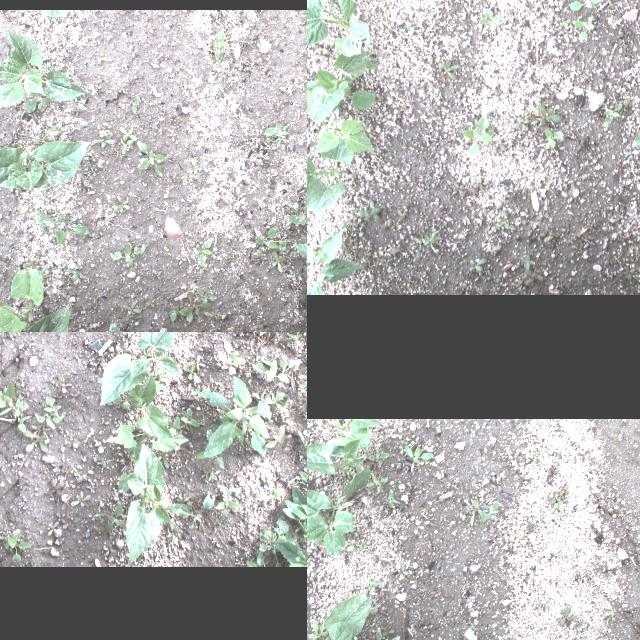crop: (0, 30, 89, 110), (115, 444, 173, 564), (196, 374, 276, 460), (99, 332, 187, 409), (307, 44, 366, 122), (0, 140, 91, 189), (101, 404, 191, 451), (307, 437, 370, 499), (307, 136, 353, 214), (307, 0, 369, 56), (307, 486, 356, 555), (307, 594, 372, 640), (0, 267, 43, 332), (246, 521, 307, 565), (316, 116, 374, 152), (277, 469, 307, 536), (323, 418, 383, 448), (310, 0, 385, 21), (15, 306, 70, 332), (33, 10, 71, 16)
weed: (307, 218, 363, 294), (307, 68, 375, 108), (172, 491, 215, 533), (0, 380, 34, 429), (36, 216, 90, 244), (252, 356, 304, 384), (462, 113, 492, 157), (27, 115, 69, 143), (95, 504, 128, 538), (138, 140, 168, 177), (36, 394, 66, 430), (7, 529, 36, 563), (213, 340, 245, 370), (20, 428, 56, 454), (262, 418, 292, 448), (185, 292, 213, 322), (404, 444, 434, 472), (110, 243, 146, 265), (254, 226, 282, 254), (217, 488, 243, 518), (258, 478, 288, 502), (176, 404, 202, 430), (532, 103, 562, 125), (210, 28, 228, 64), (289, 199, 307, 235), (262, 390, 292, 410), (572, 15, 594, 41), (186, 352, 204, 383), (602, 102, 622, 128), (24, 83, 41, 113), (10, 208, 46, 222), (274, 121, 292, 149), (363, 627, 400, 640), (436, 59, 460, 79), (367, 447, 389, 468), (48, 509, 64, 537), (470, 498, 486, 526), (242, 126, 278, 138), (94, 547, 118, 565), (567, 0, 607, 10), (479, 8, 503, 24), (514, 253, 536, 270), (107, 322, 144, 332), (546, 128, 564, 148), (558, 607, 576, 627), (94, 132, 115, 148), (200, 238, 212, 266), (357, 207, 381, 221), (170, 306, 190, 322), (56, 375, 72, 395), (89, 454, 115, 466), (198, 290, 216, 306), (112, 196, 130, 212), (384, 488, 400, 506), (71, 492, 91, 506), (484, 500, 498, 520), (469, 258, 488, 272), (272, 251, 284, 273), (43, 210, 69, 220), (118, 126, 136, 140), (68, 263, 80, 283), (122, 303, 142, 315), (472, 178, 492, 190), (298, 382, 307, 408), (120, 138, 134, 154), (314, 48, 331, 61), (370, 201, 380, 223), (430, 230, 440, 252), (366, 476, 388, 486), (512, 116, 530, 128), (525, 109, 543, 121), (52, 122, 66, 136), (452, 182, 466, 196), (204, 311, 222, 321), (130, 94, 140, 112), (526, 270, 544, 280), (422, 233, 438, 244), (149, 268, 163, 280), (623, 266, 635, 280), (457, 139, 473, 149), (544, 232, 560, 242), (175, 253, 188, 265), (72, 104, 84, 116), (191, 160, 203, 172), (497, 216, 509, 228), (512, 280, 524, 292), (606, 610, 618, 622), (550, 501, 562, 513), (548, 464, 558, 478), (397, 208, 408, 220), (225, 199, 238, 209), (332, 100, 340, 116), (531, 233, 547, 241), (25, 260, 37, 270), (366, 59, 378, 69), (486, 124, 496, 136), (491, 108, 503, 118), (524, 274, 534, 286), (398, 441, 412, 449), (406, 21, 416, 31), (551, 493, 561, 503), (413, 235, 425, 243), (506, 5, 518, 13), (495, 88, 503, 100), (551, 550, 563, 558), (40, 102, 49, 112), (546, 7, 556, 16), (43, 181, 47, 203), (38, 98, 46, 109), (342, 240, 348, 254), (381, 629, 395, 635), (98, 130, 108, 138), (40, 270, 50, 278), (278, 240, 286, 250), (563, 32, 571, 42), (368, 582, 378, 590), (535, 448, 541, 460), (558, 492, 566, 501), (552, 84, 560, 92), (623, 97, 631, 105), (520, 531, 528, 539), (145, 301, 155, 307), (170, 130, 176, 140), (562, 18, 572, 24), (578, 160, 588, 166), (218, 84, 225, 92), (359, 541, 366, 549), (600, 473, 606, 482), (615, 18, 623, 24), (492, 476, 498, 484), (576, 632, 584, 638), (179, 298, 183, 308), (184, 78, 188, 88), (368, 57, 378, 61), (100, 51, 104, 60), (496, 274, 502, 280), (562, 485, 568, 491), (491, 63, 495, 71), (405, 571, 413, 575), (70, 108, 74, 114), (180, 176, 184, 182), (122, 82, 126, 86), (364, 449, 368, 451), (129, 244, 131, 246)
